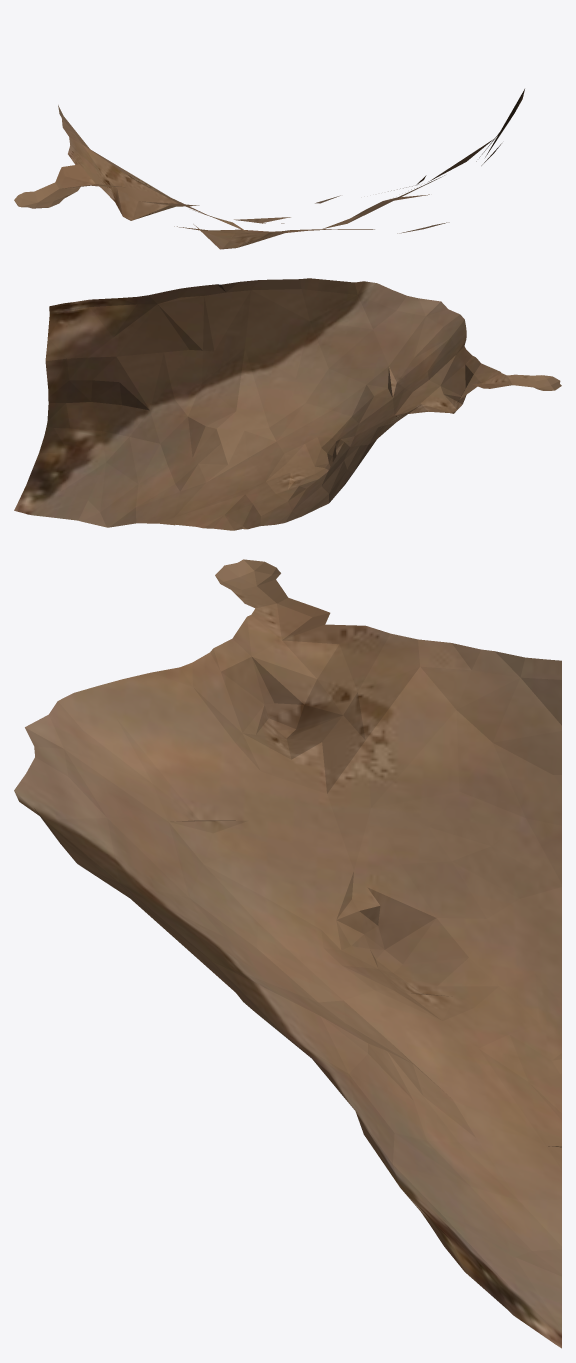
The picture shows the model from 3 angles, top to bottom: view 1: azimuth 30°, elevation 25°; view 2: azimuth 150°, elevation 25°; view 3: azimuth 270°, elevation 25°; orthographic projection. The views are drawn at different scales.
Size of the model in its own units: 0.6278 by 0.2305 by 0.3289.
Materials: 1 (1 with a texture image).
